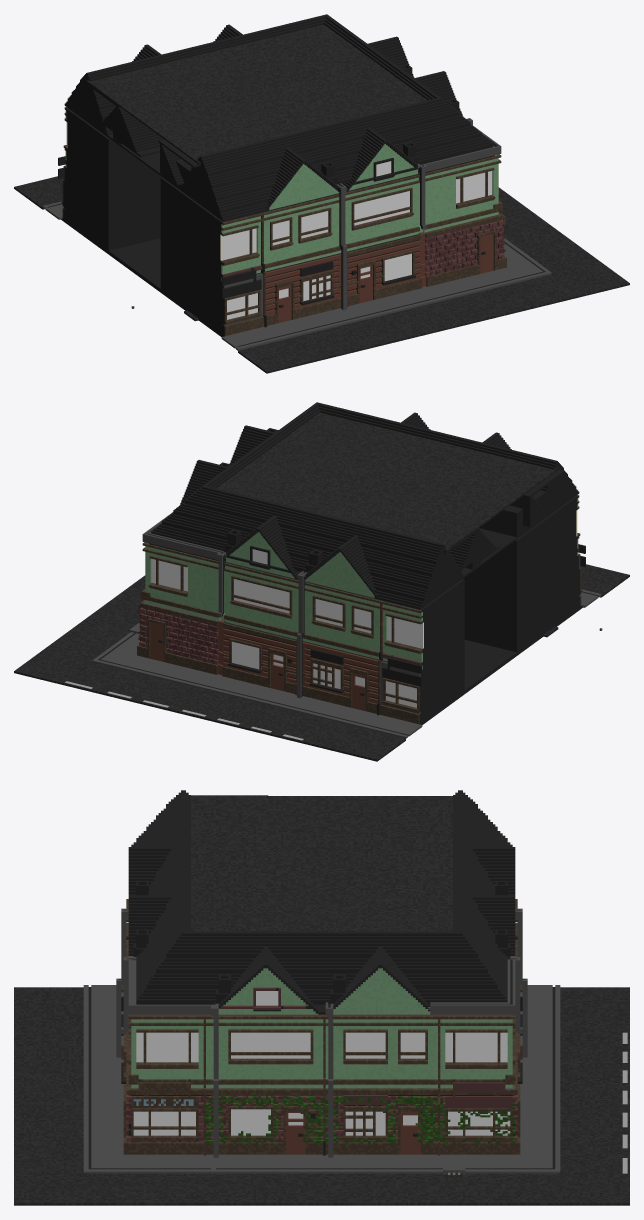
File: MAINHOUSE.fbx
The picture shows the model from 3 angles, top to bottom: view 1: azimuth 30°, elevation 25°; view 2: azimuth 150°, elevation 25°; view 3: azimuth 270°, elevation 25°; orthographic projection. The views are drawn at different scales.
Parts seen in each view (by area): view 1: HOUSE; view 2: HOUSE; view 3: HOUSE.
Part boxes in pixels (x1,y1,x2,y2): HOUSE: (14, 14, 629, 373); HOUSE: (14, 402, 629, 761); HOUSE: (14, 790, 629, 1205).
Bounding box in the file's own units: 2350 × 890 × 2470.
